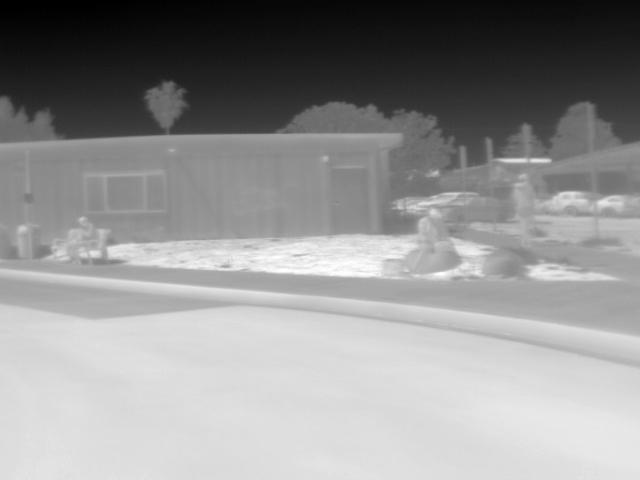car: (409, 190, 479, 215), (589, 192, 638, 218), (546, 190, 592, 215)
person: (511, 172, 541, 236), (403, 214, 434, 274), (64, 214, 101, 262), (430, 206, 450, 244)
